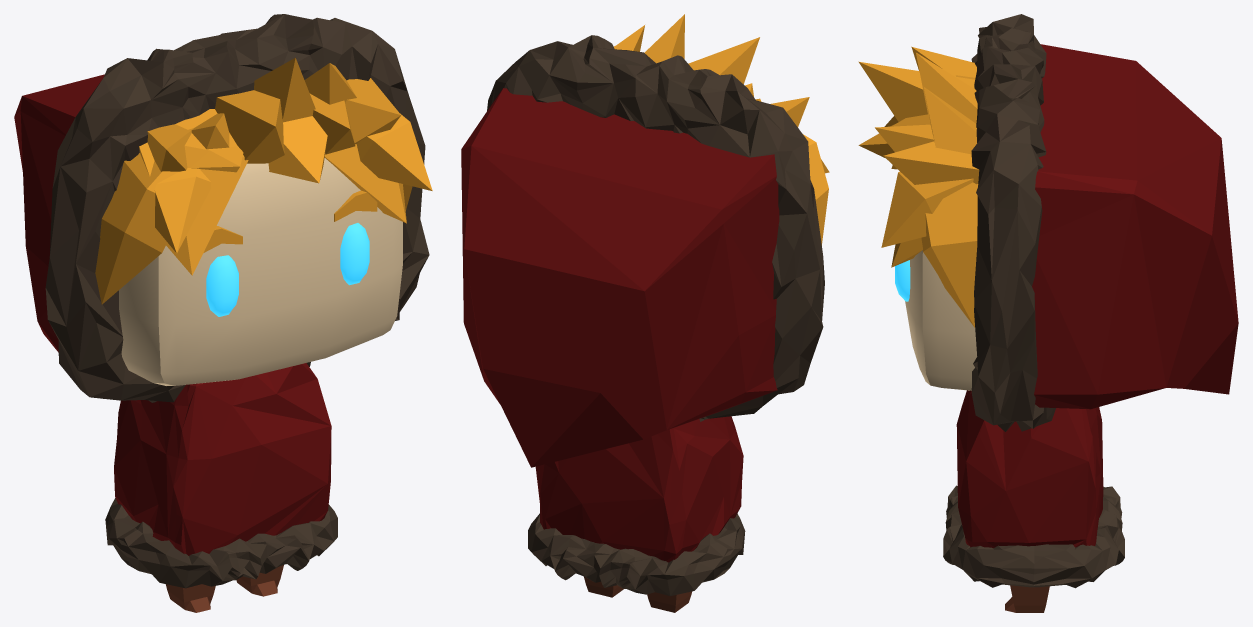
The model's file is moñeco.FBX.
3 views of the same model, side by side, from view 1: azimuth 30°, elevation 25°; view 2: azimuth 150°, elevation 25°; view 3: azimuth 270°, elevation 25° (orthographic). The views are drawn at different scales.
Parts seen in each view (by area): view 1: moñeco_cabeza, Moñeco, moñeco_pierna_der, moñeco_pierna_izquierda; view 2: moñeco_cabeza, Moñeco, moñeco_pierna_der; view 3: moñeco_cabeza, Moñeco, moñeco_pierna_izquierda.
Part boxes in pixels (x1,y1,x2,y2): moñeco_cabeza: (14,14,432,402); Moñeco: (105,363,337,588); moñeco_pierna_der: (165,584,215,612); moñeco_pierna_izquierda: (236,565,283,596); moñeco_cabeza: (461,14,829,467); Moñeco: (528,416,745,596); moñeco_pierna_der: (647,591,692,612); moñeco_cabeza: (858,14,1238,431); Moñeco: (943,390,1124,588); moñeco_pierna_izquierda: (1005,585,1049,612).
Size of the model in its own units: 33.03 by 49.39 by 31.25.
